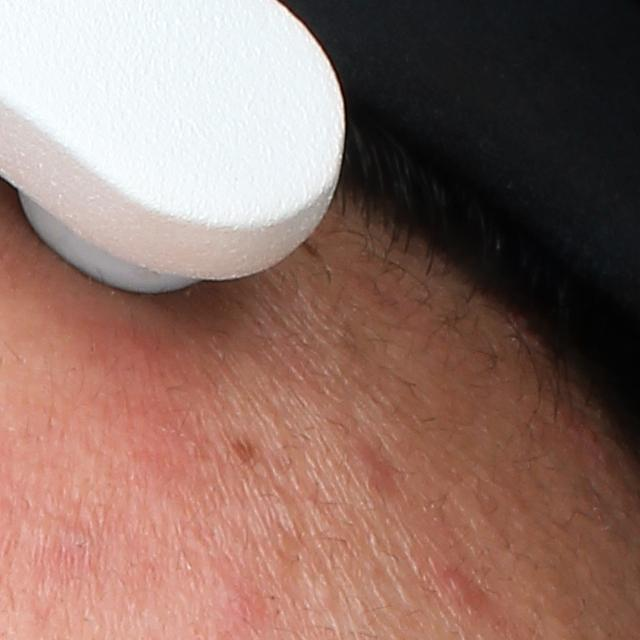papule: (342, 436, 396, 490), (438, 562, 477, 612)
